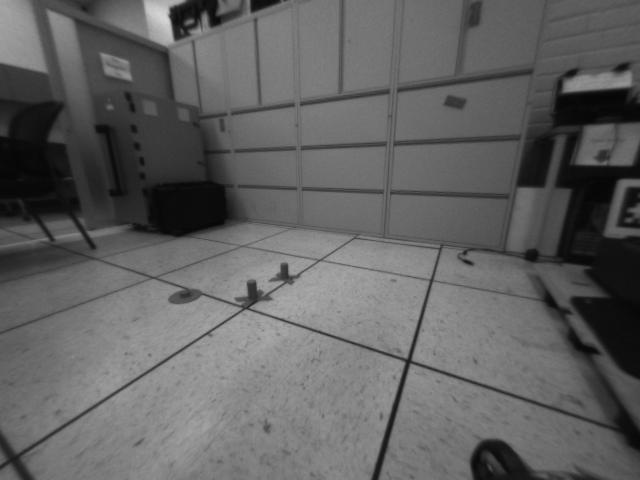X: (235, 279, 275, 310), (268, 262, 301, 285)
